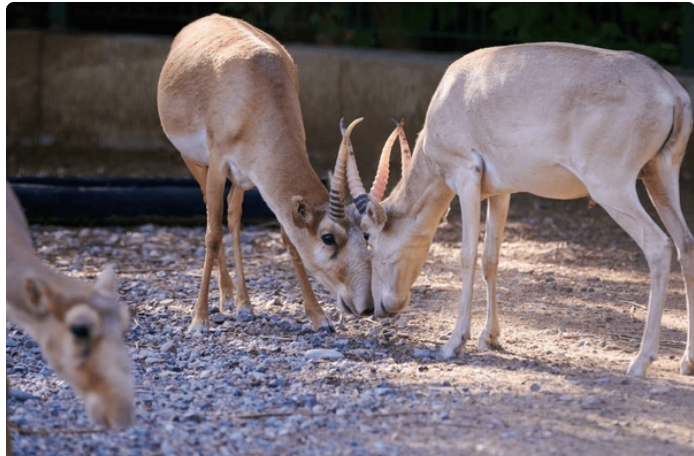saiga: (157, 11, 399, 356)
